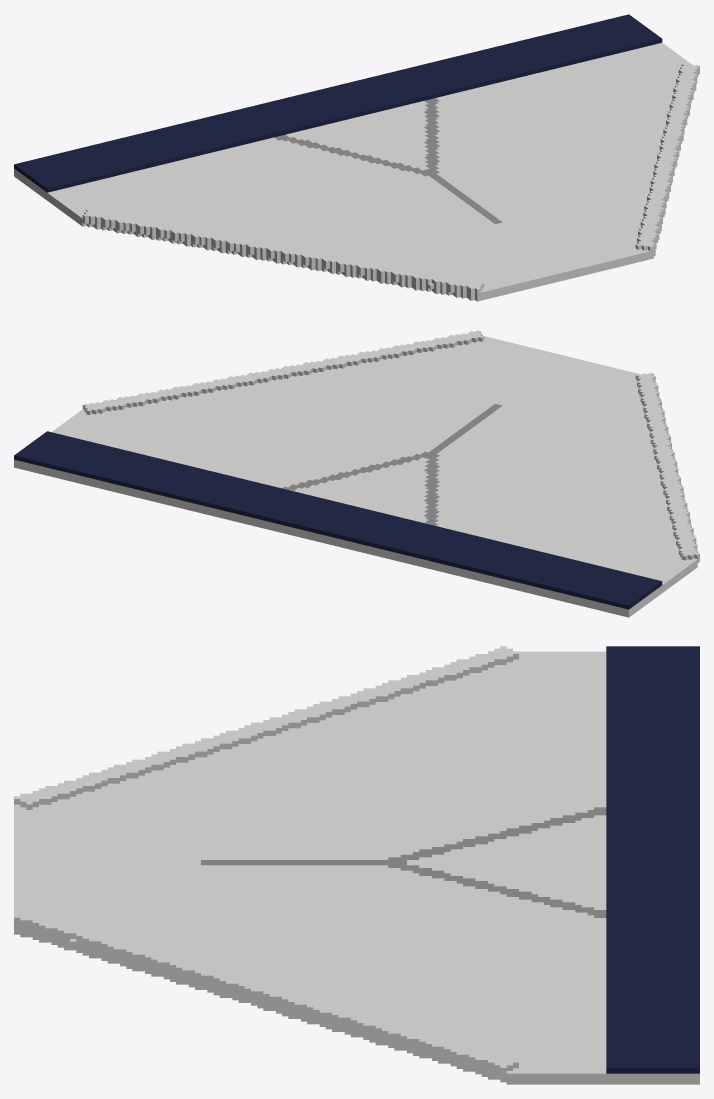
File: briefs.glb
3 renders of one model, top to bottom at view 1: azimuth 30°, elevation 25°; view 2: azimuth 150°, elevation 25°; view 3: azimuth 270°, elevation 25°, orthographic. The views are drawn at different scales.
Parts seen in each view (by area): view 1: briefs:compound; view 2: briefs:compound; view 3: briefs:compound.
Boxes of the visible parts, x1,y1,x2,y2 form: briefs:compound: (14, 14, 699, 301); briefs:compound: (14, 330, 699, 617); briefs:compound: (14, 646, 699, 1084).
Size of the model in its own units: 0.32 by 0.006 by 0.22.
